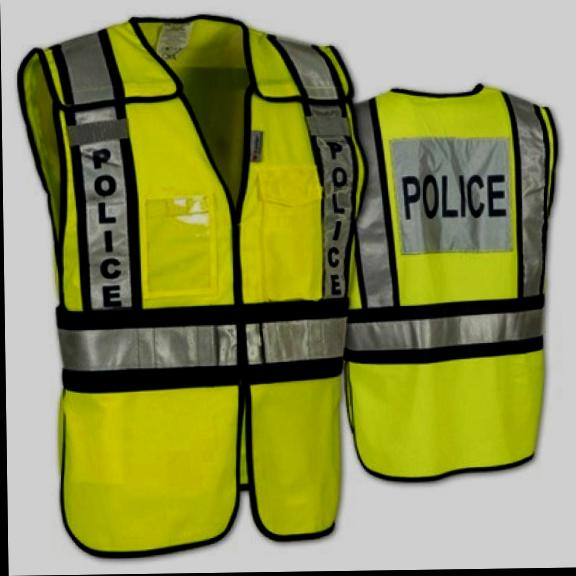safety_vest: (16, 10, 374, 563), (339, 76, 563, 485)
